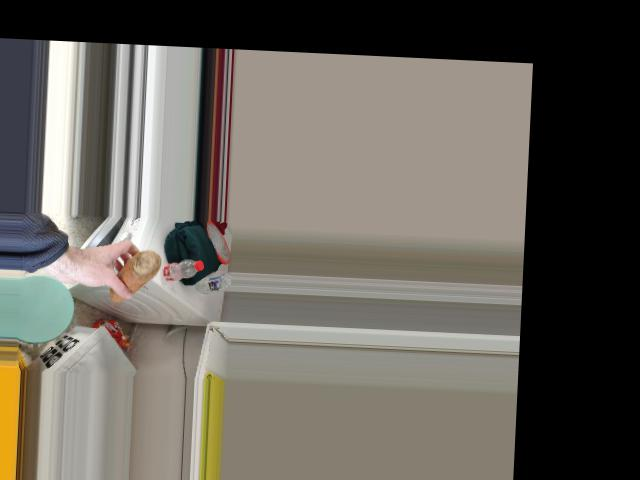sweet_potato: (109, 244, 160, 309)
